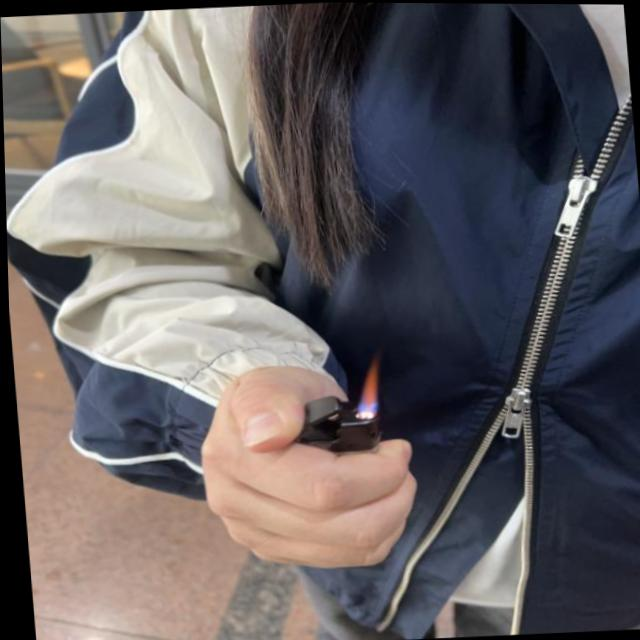Fire: (353, 351, 380, 418)
